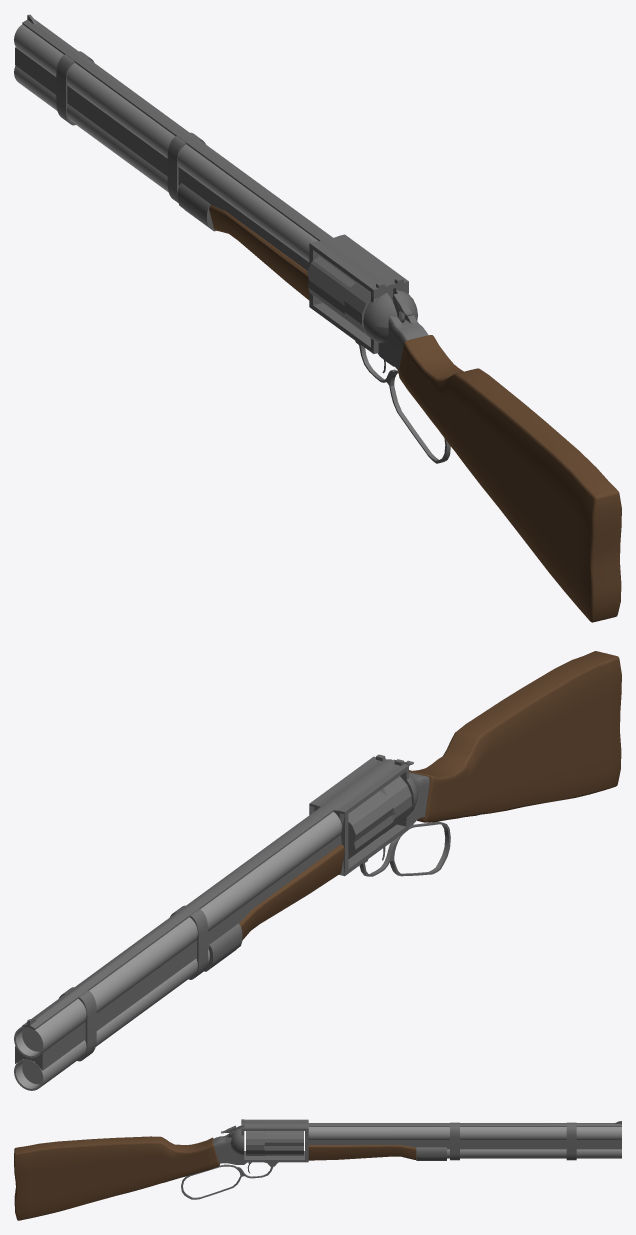
The model's file is Shotgun4.glb.
The picture shows the model from 3 angles, top to bottom: view 1: azimuth 30°, elevation 25°; view 2: azimuth 150°, elevation 25°; view 3: azimuth 270°, elevation 25°; orthographic projection. The views are drawn at different scales.
Parts seen in each view (by area): view 1: Stock, Rifle body, Barrel bot, Revolver, Lever, Cube.001; view 2: Stock, Rifle body, Barrel bot, Revolver, Lever, Cube.001; view 3: Stock, Rifle body, Barrel bot, Revolver, Lever, Cube.001.
Boxes of the visible parts, box(x1,y1,x2,y2) form: Stock: box(209, 205, 621, 622); Rifle body: box(15, 14, 428, 371); Barrel bot: box(14, 24, 318, 261); Revolver: box(307, 255, 393, 336); Lever: box(359, 345, 450, 463); Cube.001: box(177, 183, 216, 231); Stock: box(239, 651, 621, 940); Rifle body: box(15, 754, 429, 1070); Barrel bot: box(14, 812, 341, 1090); Revolver: box(348, 776, 411, 859); Lever: box(359, 821, 450, 876); Cube.001: box(204, 923, 242, 971); Stock: box(14, 1136, 416, 1220); Rifle body: box(213, 1119, 621, 1166); Barrel bot: box(308, 1127, 621, 1158); Revolver: box(246, 1131, 303, 1155); Lever: box(181, 1164, 273, 1199); Cube.001: box(416, 1147, 446, 1160).
Bounding box in the file's own units: 2 × 6.91 × 39.48.
